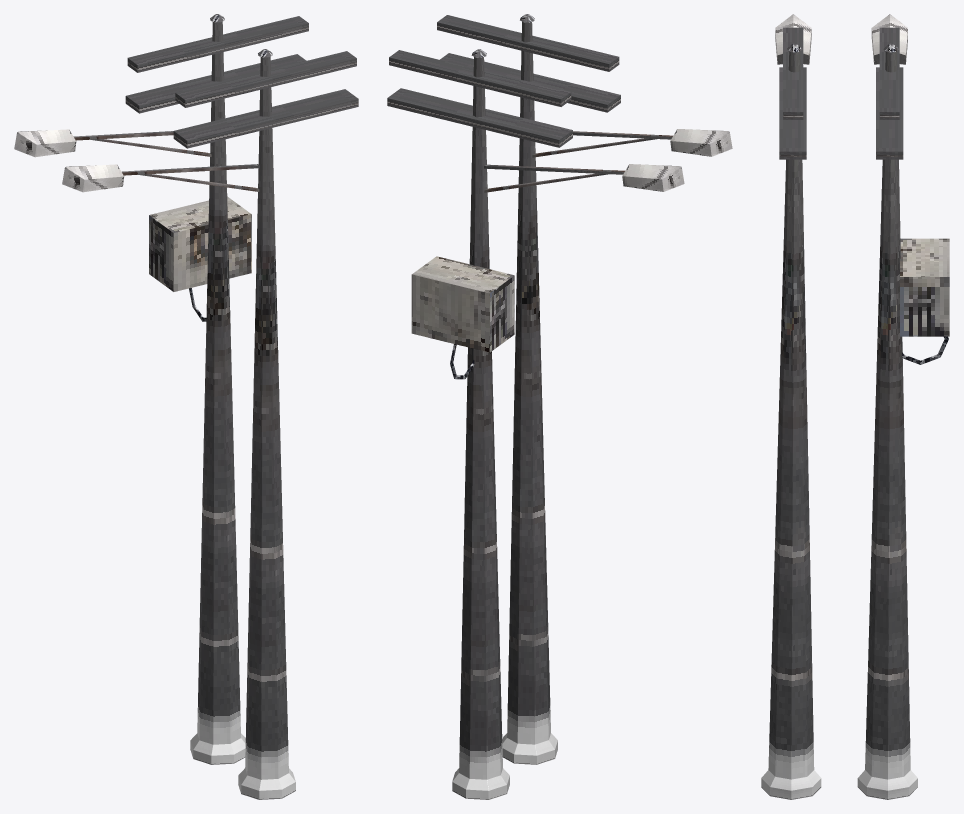
Rendered from brazilian_streetlight.glb.
3 renders of one model, left to right at view 1: azimuth 30°, elevation 25°; view 2: azimuth 150°, elevation 25°; view 3: azimuth 270°, elevation 25°, orthographic.
Visible parts, largest first — view 1: PosteComCaixa_0, Poste_1; view 2: PosteComCaixa_0, Poste_1; view 3: PosteComCaixa_0, Poste_1.
Boxes of the visible parts, x1,y1,x2,y2 form: PosteComCaixa_0: (14,14,308,764); Poste_1: (62,49,358,799); PosteComCaixa_0: (387,49,684,799); Poste_1: (437,14,732,764); PosteComCaixa_0: (857,14,949,799); Poste_1: (761,14,821,799).
Size of the model in its own units: 1.89 by 4.58 by 1.05.
1 material, 1 textured.
